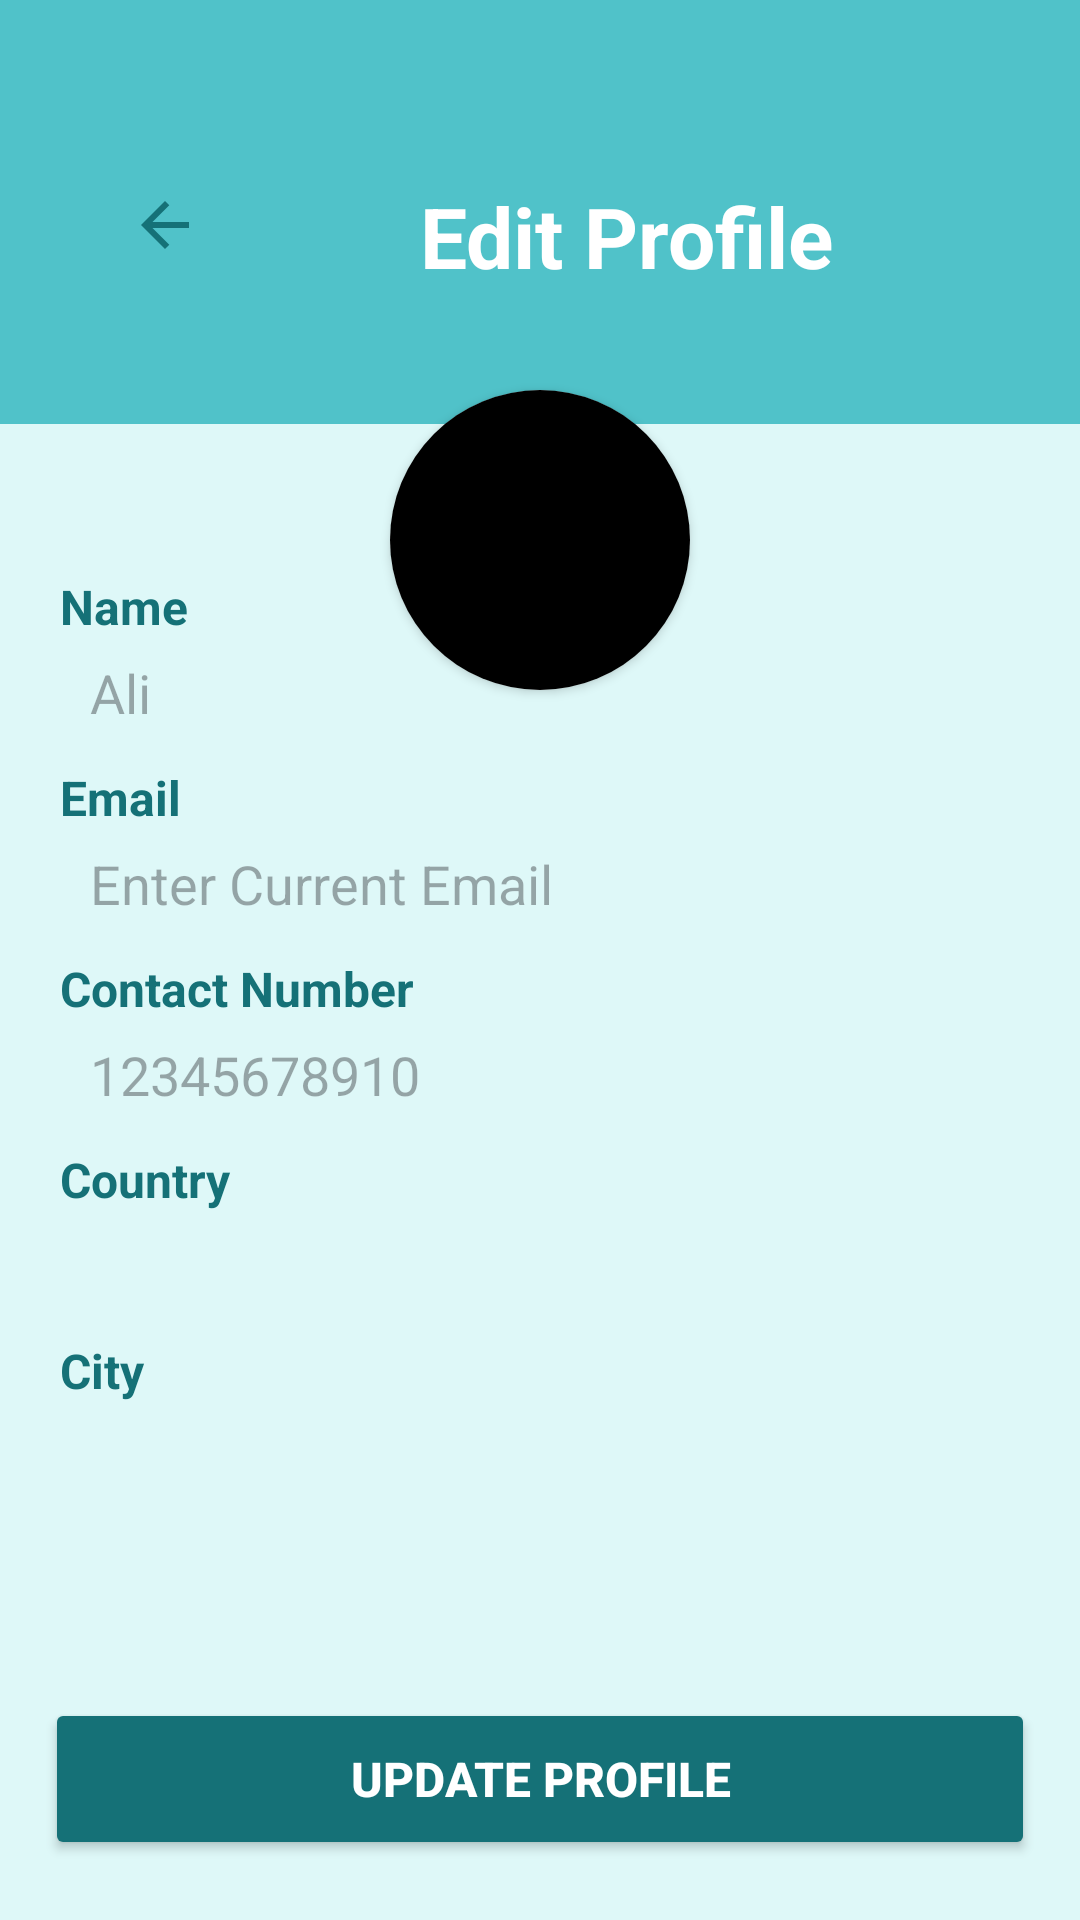

Named icons in this screenshot (1080w x 1920h) and their centers, (x,y):
back arrow: (165,225)
